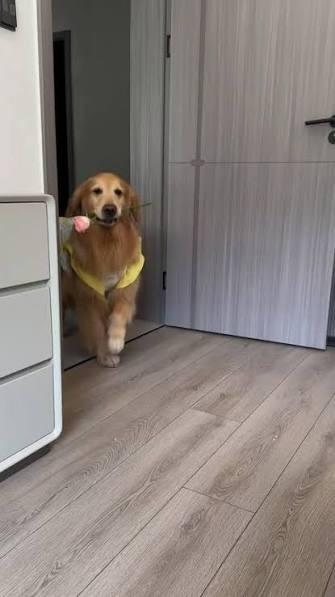adult_dog: (61, 172, 146, 369)
